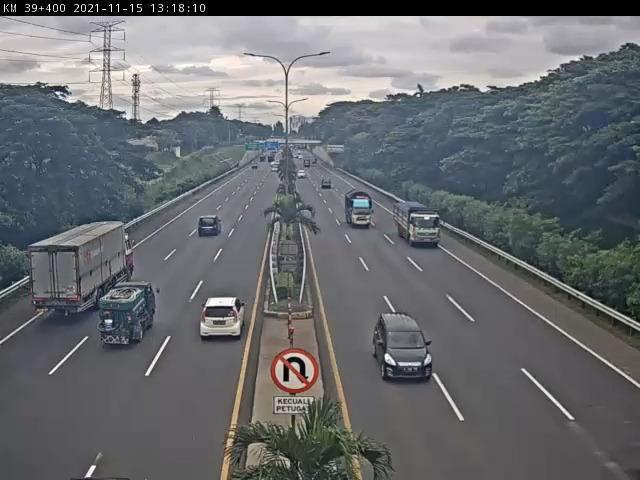car: (373, 311, 435, 381), (200, 295, 248, 340)
truck: (34, 218, 138, 316), (98, 278, 161, 349), (392, 200, 443, 247), (346, 189, 374, 231), (198, 215, 225, 240)
